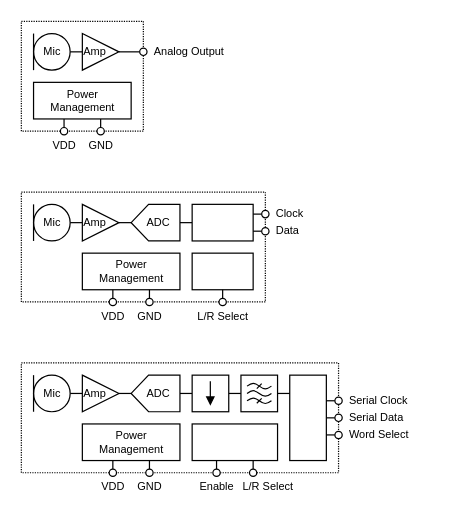
Some shapes in this 454 by 527 pixel diagram are drawn without their labels. Each missing label, with the box of its shape:
Channel Select: (191, 252, 253, 290)
Hardware Control: (191, 423, 278, 461)
I 2 S Serial Port: (289, 374, 326, 461)
PDM Modulator: (191, 203, 253, 241)
